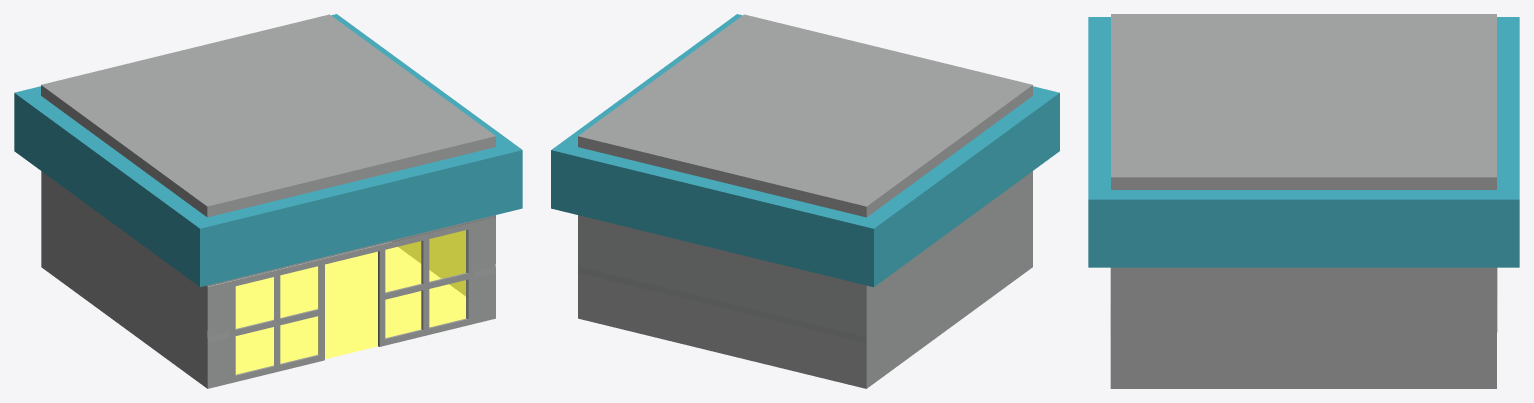
File: smallShop.fbx
3 views of the same model, side by side, from view 1: azimuth 30°, elevation 25°; view 2: azimuth 150°, elevation 25°; view 3: azimuth 270°, elevation 25° (orthographic). The views are drawn at different scales.
Visible parts, largest first — view 1: digitalBar; view 2: digitalBar; view 3: digitalBar.
Boxes of the visible parts, x1=… form: digitalBar: x1=14, y1=14, x2=522, y2=388; digitalBar: x1=551, y1=14, x2=1059, y2=388; digitalBar: x1=1088, y1=14, x2=1519, y2=388.
Size of the model in its own units: 761 by 411 by 759.
